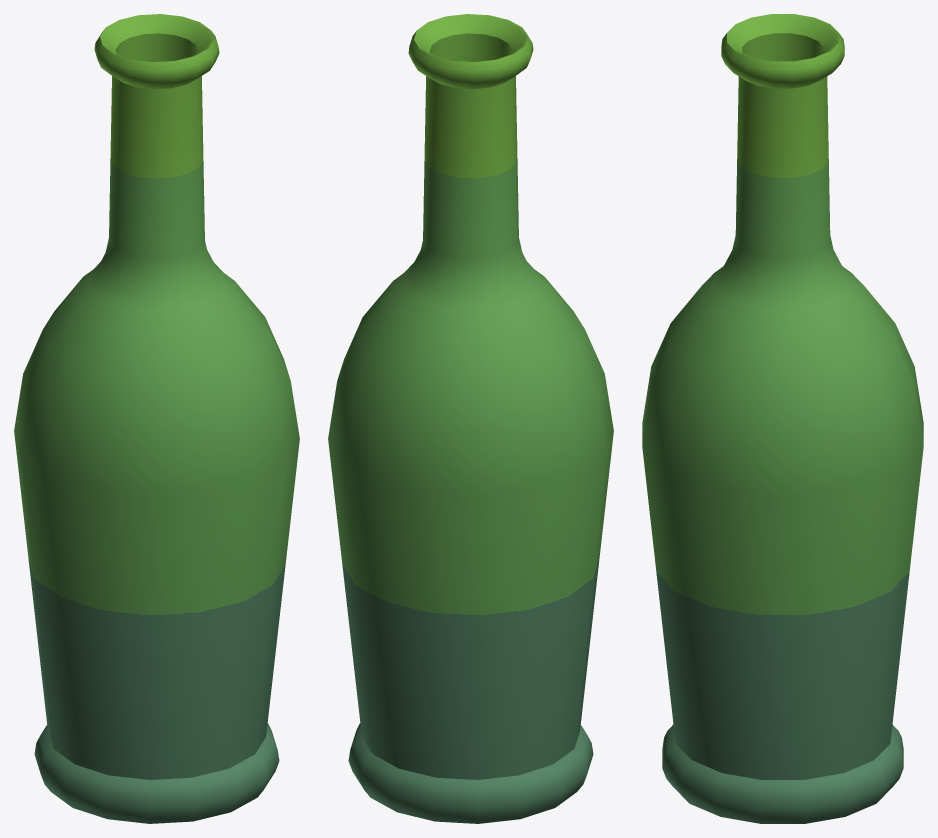
File: botellaVidrio.001.fbx
3 renders of one model, left to right at view 1: azimuth 30°, elevation 25°; view 2: azimuth 150°, elevation 25°; view 3: azimuth 270°, elevation 25°, orthographic.
Visible parts, largest first — view 1: botellaVidrio.001; view 2: botellaVidrio.001; view 3: botellaVidrio.001.
Part boxes in pixels (box(x1,y1,x2,y2)): botellaVidrio.001: box(14, 14, 299, 823); botellaVidrio.001: box(328, 14, 613, 823); botellaVidrio.001: box(642, 14, 923, 823).
Bounding box in the file's own units: 31.21 × 90.52 × 31.21.
